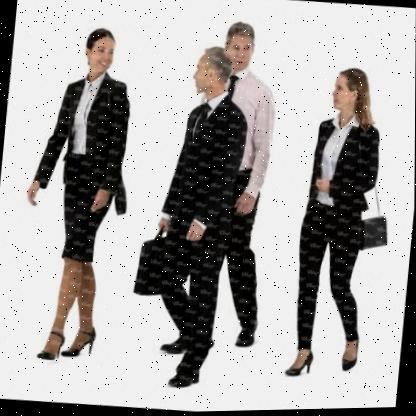person: (5, 17, 150, 372), (119, 37, 260, 392), (273, 46, 415, 392), (191, 12, 294, 354)
